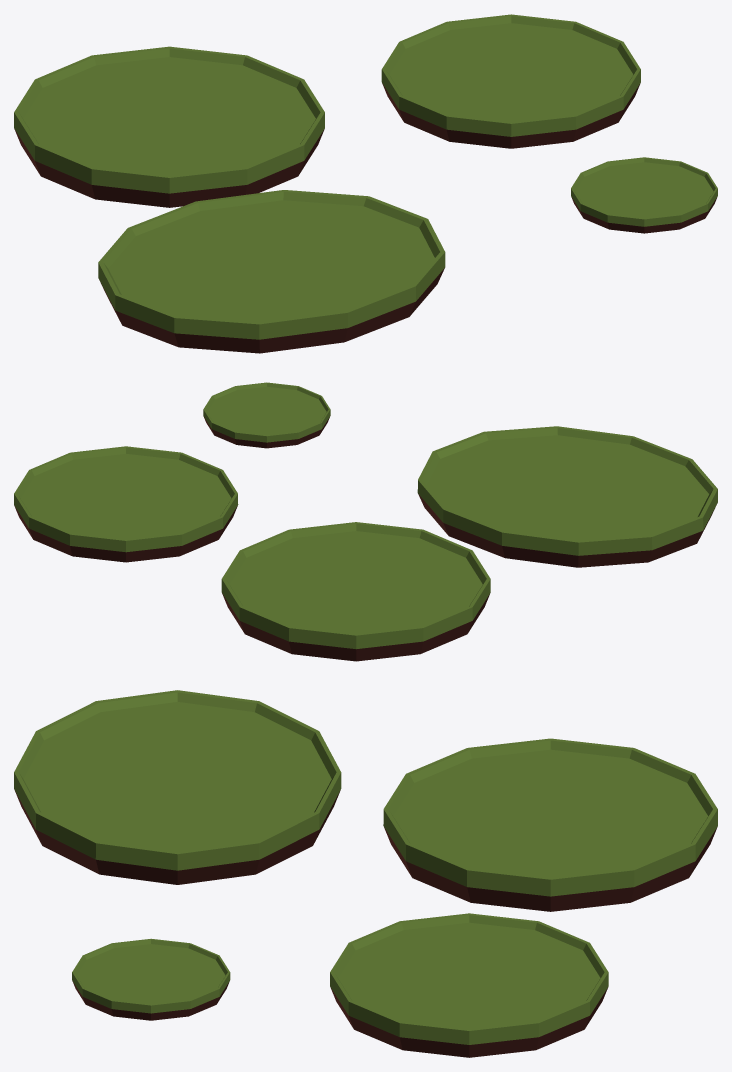
File: LeafStack_1.fbx
The picture shows the model from 3 angles, top to bottom: view 1: azimuth 30°, elevation 25°; view 2: azimuth 150°, elevation 25°; view 3: azimuth 270°, elevation 25°; orthographic projection. The views are drawn at different scales.
Visible parts, largest first — view 1: LeafStack_1; view 2: LeafStack_1; view 3: LeafStack_1.
Part boxes in pixels (x1,y1,x2,y2): LeafStack_1: (14, 14, 717, 353); LeafStack_1: (14, 382, 717, 661); LeafStack_1: (14, 690, 717, 1057).
Bounding box in the file's own units: 179 × 8.72 × 158.
